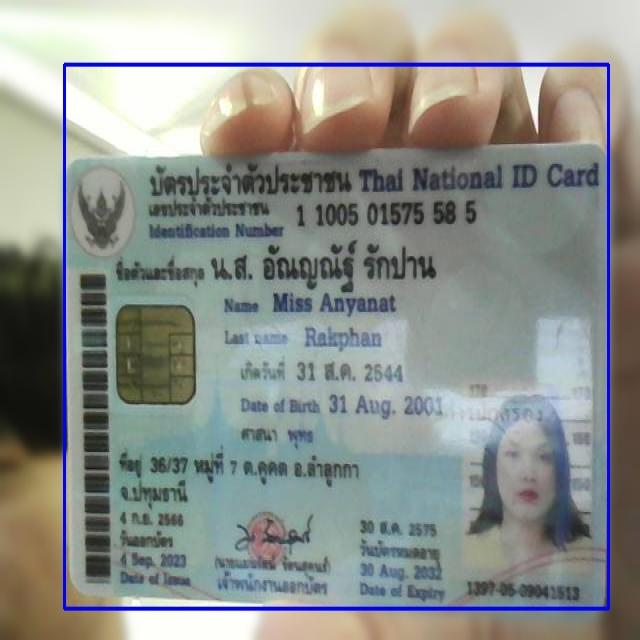Address_th: (111, 447, 367, 512)
Date_of_Birth: (326, 389, 446, 422)
Date_of_Expiry: (358, 561, 446, 586)
Date_of_Issue: (117, 548, 198, 572)
First_Name: (266, 289, 400, 320)
ID_Number: (293, 196, 486, 232)
Image: (464, 379, 593, 576)
Last_Name: (301, 321, 387, 354)
Thai_Name: (208, 238, 443, 294)
